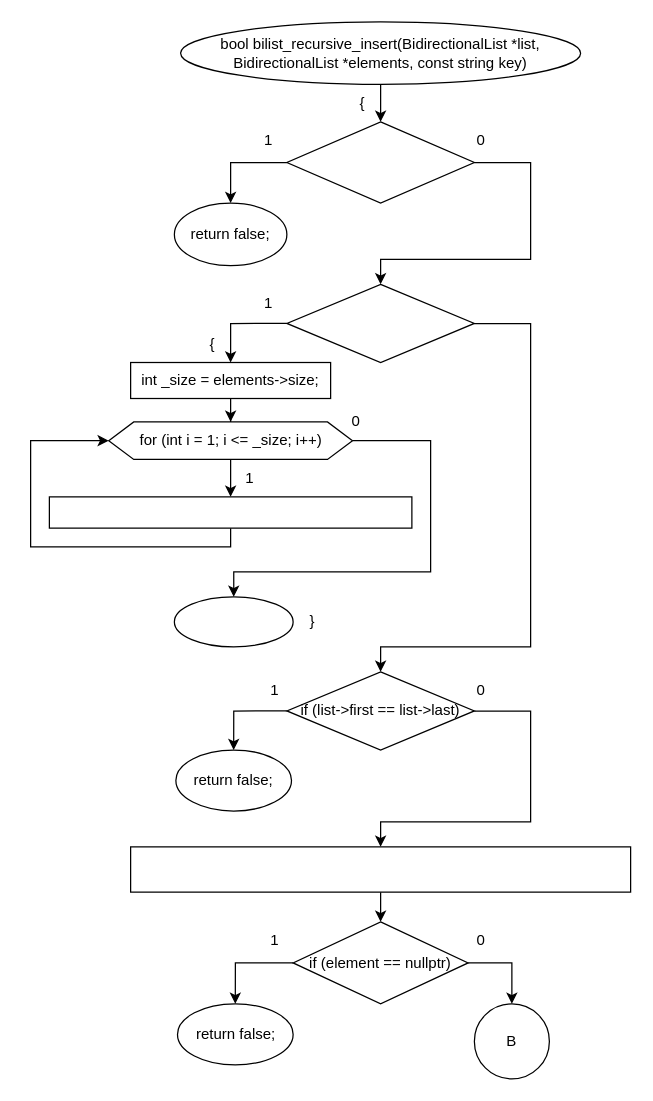
Image size: 653x1101. Some labels were removed from this diagram. Here are the shapes that lost their labels. From the top down, the box of each, then its label:
(286, 121, 474, 203): if (list->first == nullptr)
(286, 283, 474, 362): if (list->first->key == key)
(48, 496, 412, 528): bilist_add_before(list, bilist_pop_last(elements));
(173, 596, 293, 647): return true;
(129, 846, 631, 892): BidirectionalElement *element = _bilist_recursive_search(list->first, key);
